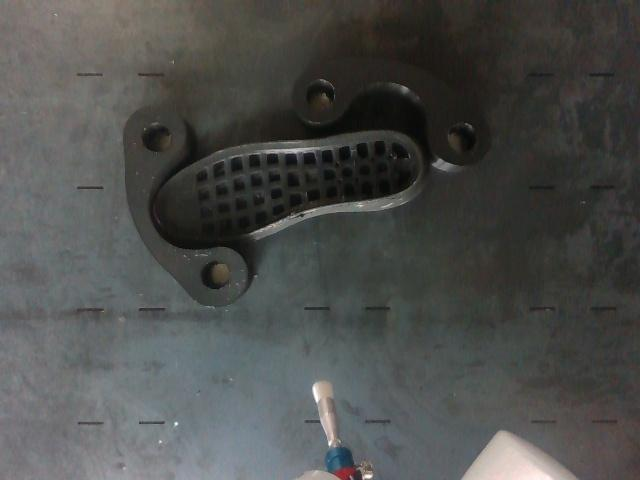shoes: (155, 130, 421, 238)
